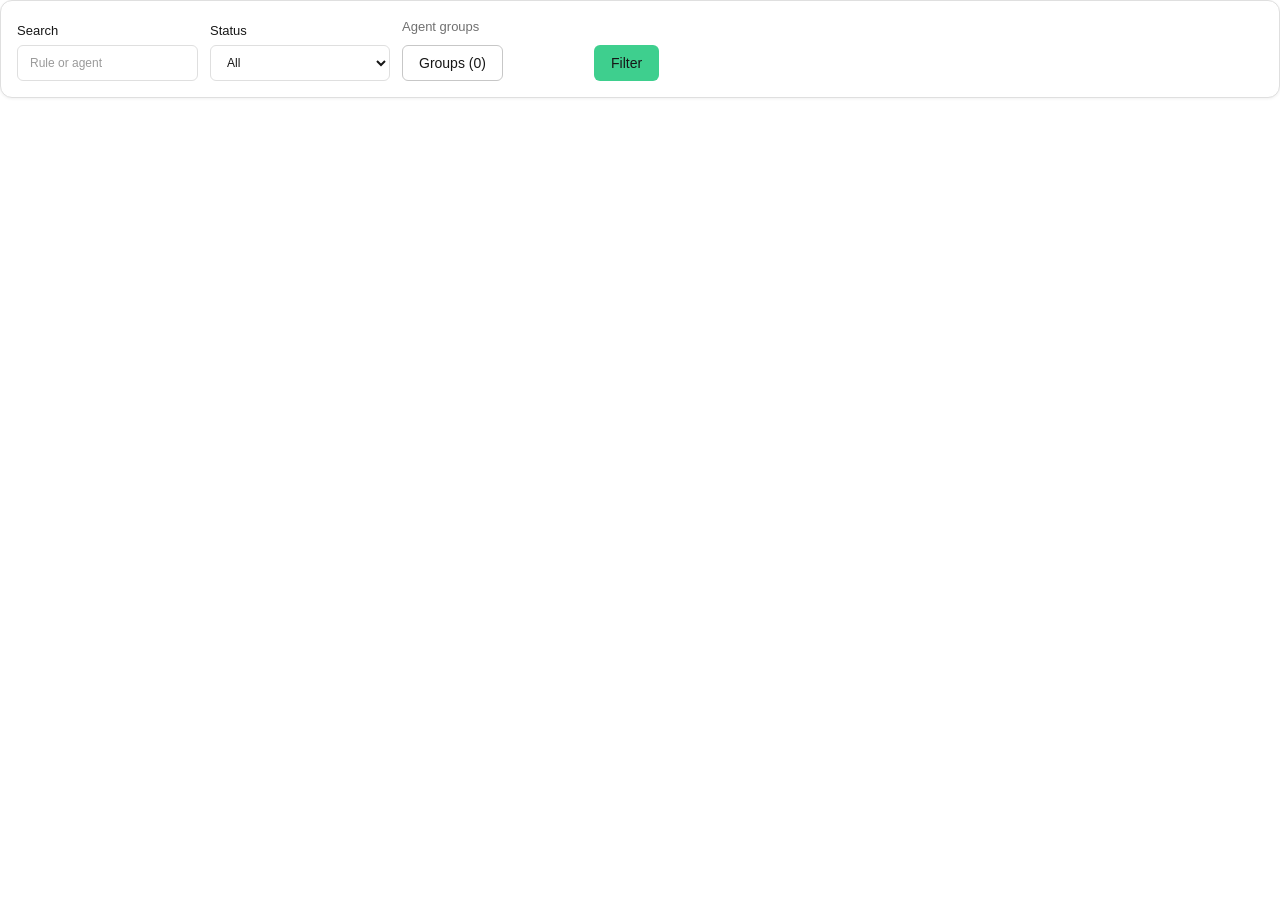
Test: AlertFilters › searches group options within popover
Click the button "Groups (0)" at (452, 62), box [402,44,503,80]
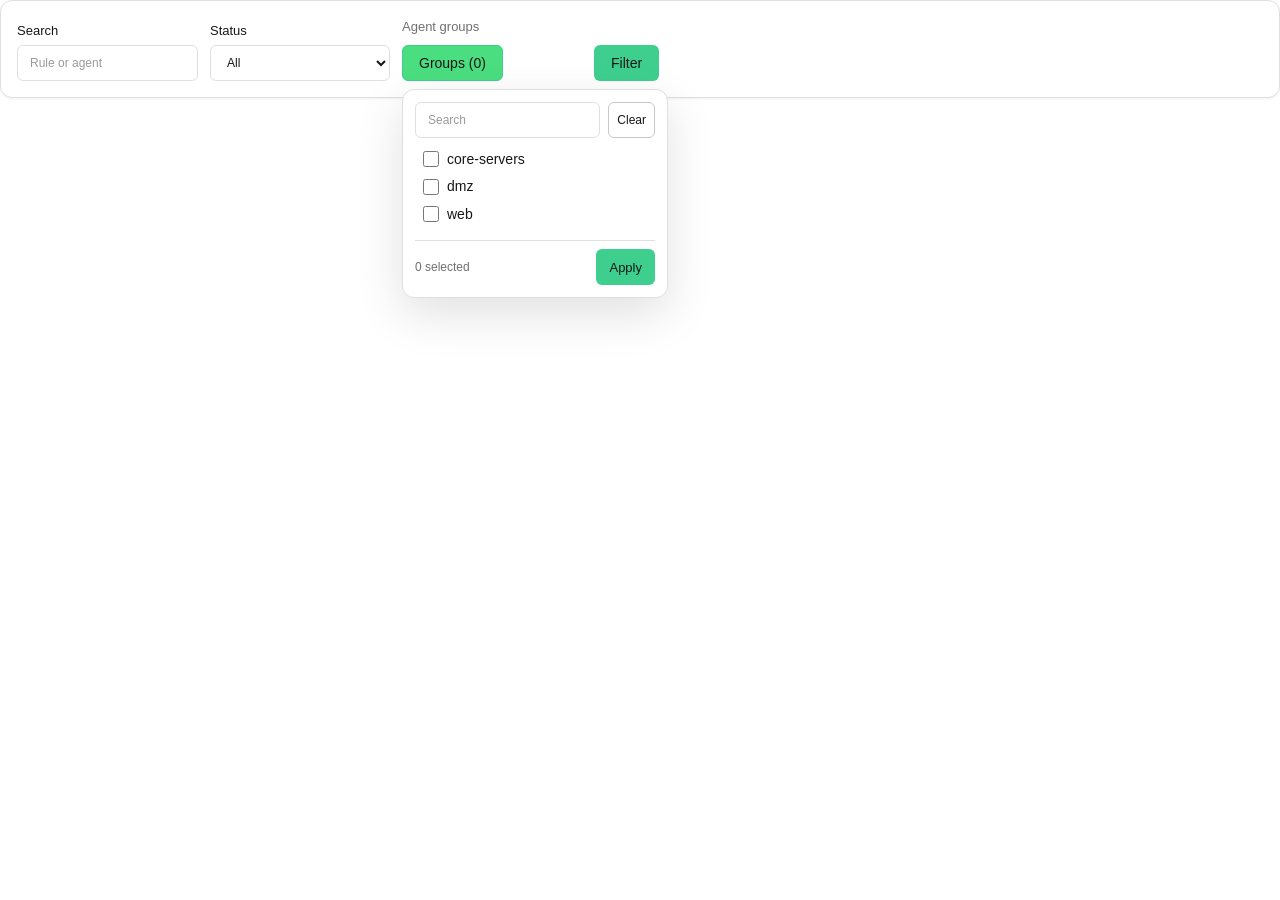
Type "dm" into the field with test id "checklist-search" at (508, 120), box [415,102,600,138]
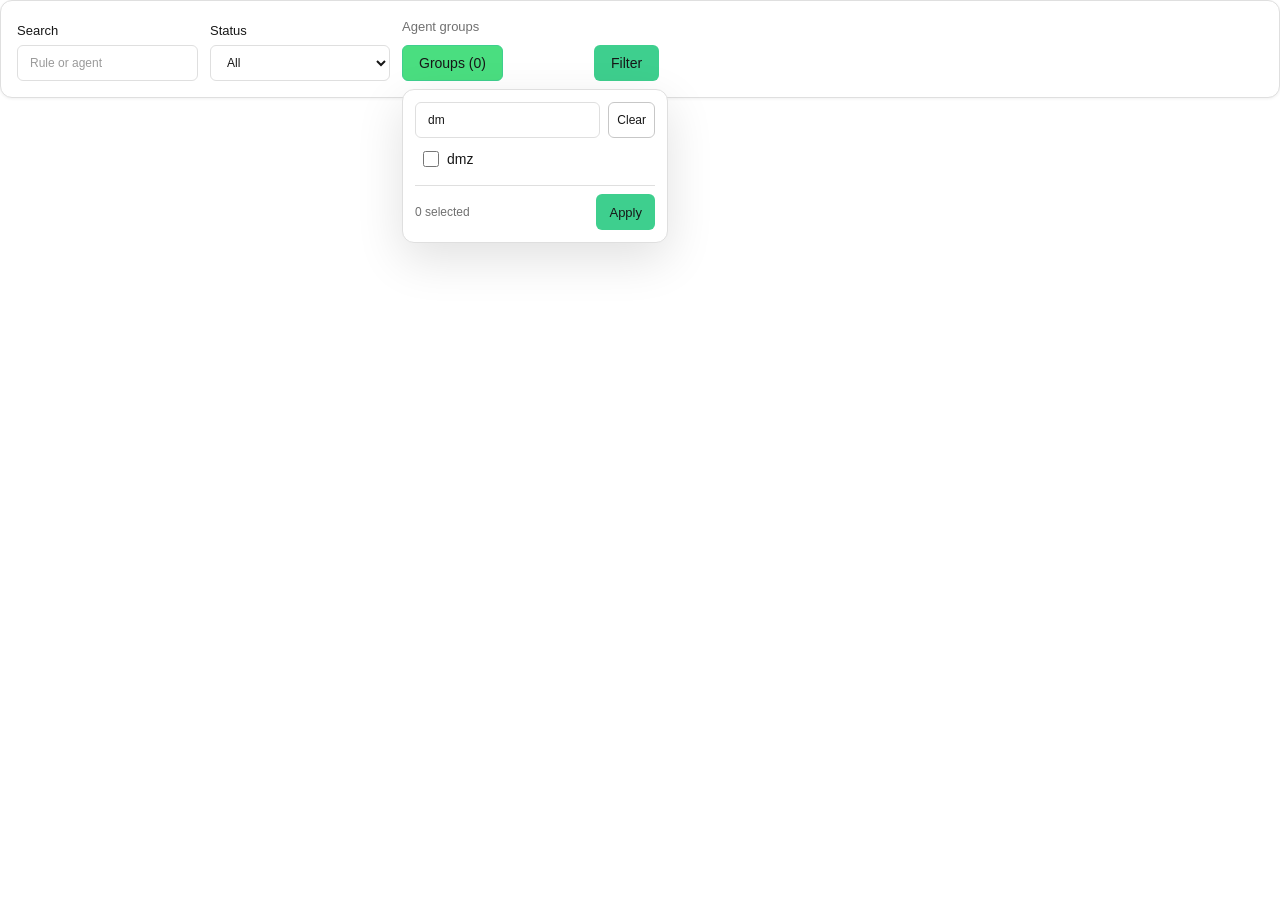
Result: the checkbox labelled "dmz" is shown at [423,151,439,167]
Result: the option "core-servers" is gone
